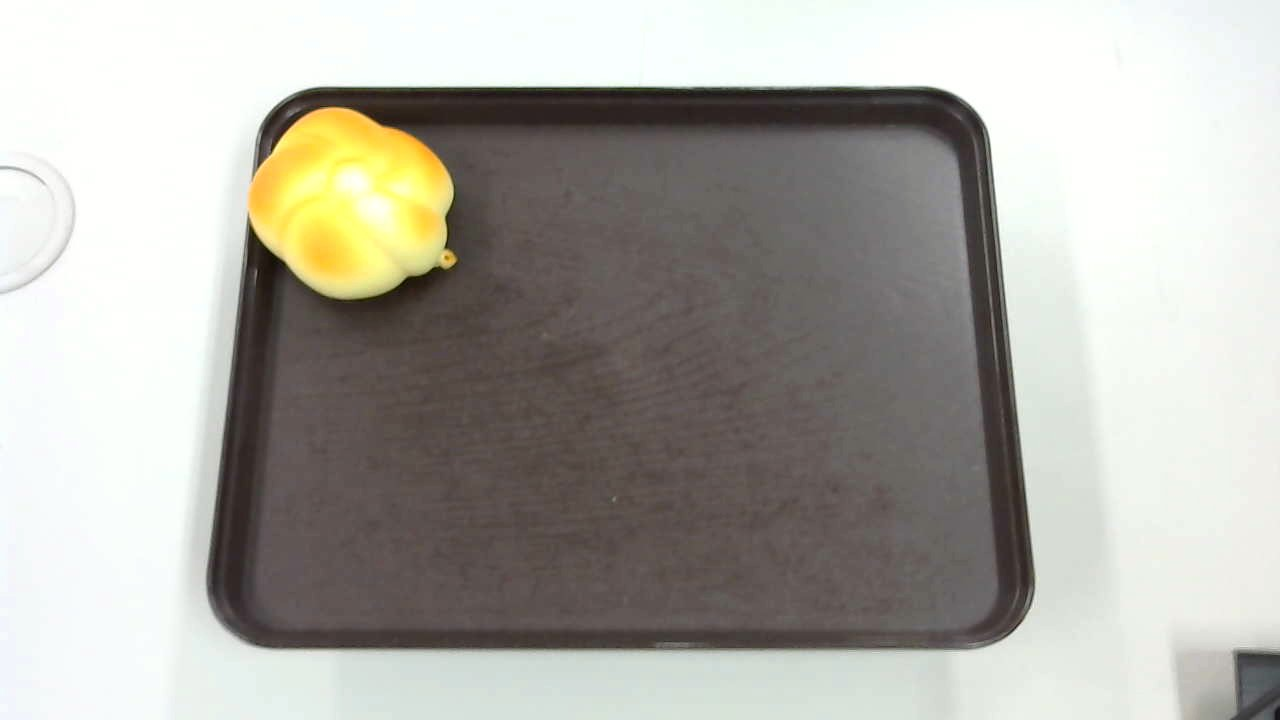twist bread: (248, 105, 456, 300)
